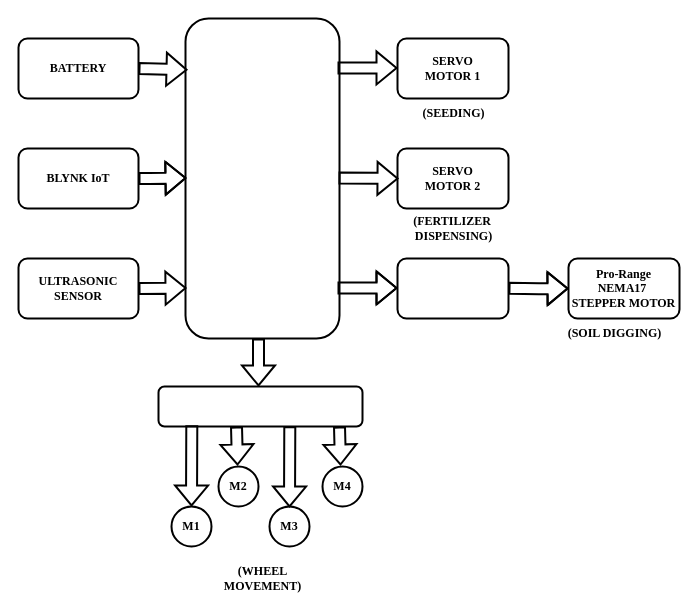
Image size: 697x615. Some labels were removed from this diagram. Each missing label, with the centre of its shape:
MICROCONTROLLER: (x=262, y=178)
MOTOR DRIVER 1 (L298N): (x=260, y=406)
MOTOR DRIVER 2 (A4988): (x=452, y=288)
